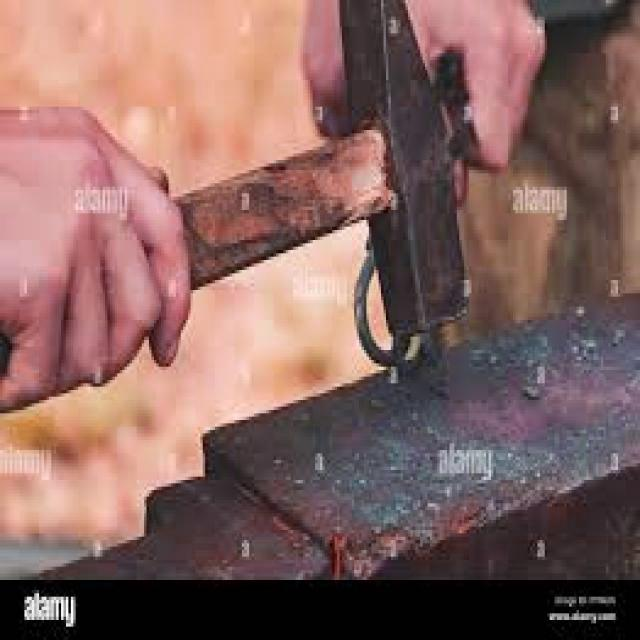hammer: (131, 0, 487, 357)
